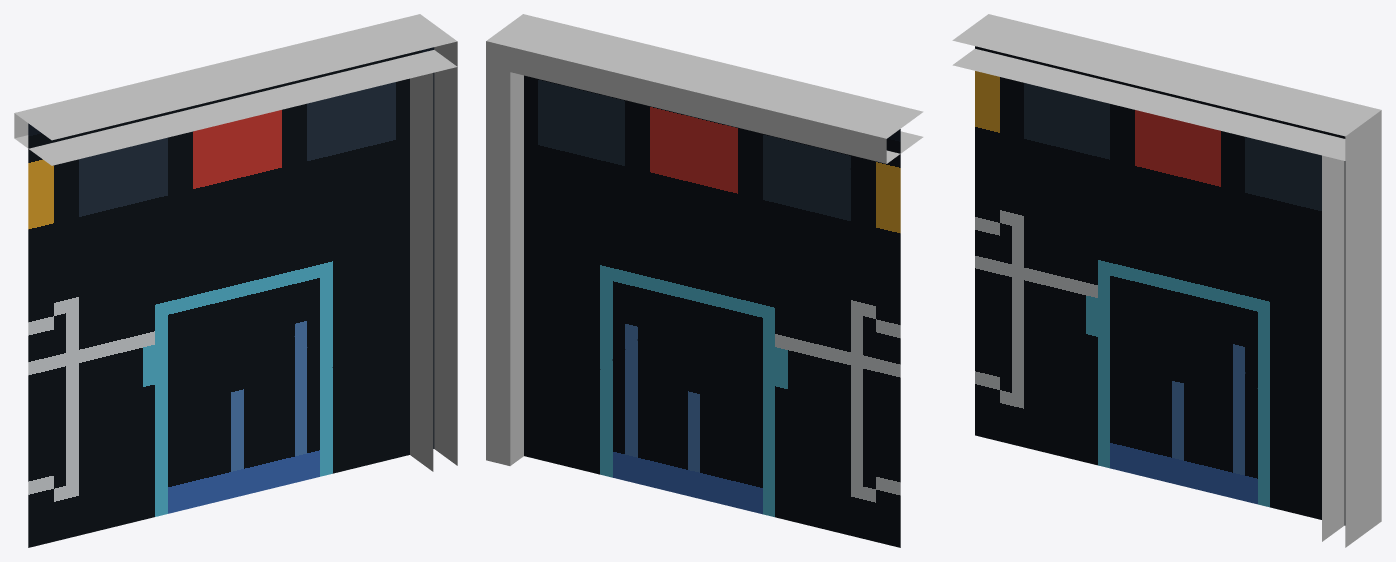
Rendered from wall_display_2x2_11.obj.
3 renders of one model, left to right at view 1: azimuth 30°, elevation 25°; view 2: azimuth 150°, elevation 25°; view 3: azimuth 330°, elevation 25°, orthographic. The views are drawn at different scales.
Parts seen in each view (by area): view 1: wall_display_2x2_11; view 2: wall_display_2x2_11; view 3: wall_display_2x2_11.
Boxes of the visible parts, x1,y1,x2,y2 form: wall_display_2x2_11: (14,14,457,547); wall_display_2x2_11: (486,14,923,547); wall_display_2x2_11: (952,14,1381,547).
Size of the model in its own units: 1 by 1 by 0.16.
